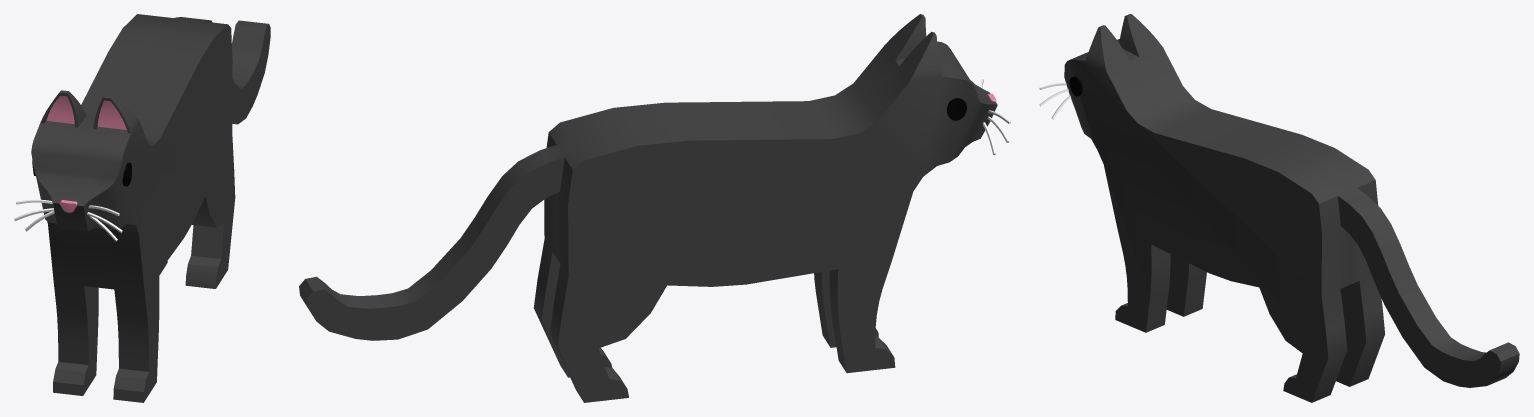
The model's file is black_cat.fbx.
The picture shows the model from 3 angles, left to right: view 1: azimuth 30°, elevation 25°; view 2: azimuth 150°, elevation 25°; view 3: azimuth 270°, elevation 25°; orthographic projection. The views are drawn at different scales.
Visible parts, largest first — view 1: Plane.155, Cube.006; view 2: Plane.155; view 3: Plane.155.
Part boxes in pixels (x1,y1,x2,y2): Plane.155: (31, 14, 270, 402); Cube.006: (14, 199, 122, 241); Plane.155: (299, 14, 997, 402); Plane.155: (1064, 14, 1519, 402).
Size of the model in its own units: 235 by 149 by 235.
Materials: 1 (1 with a texture image).
